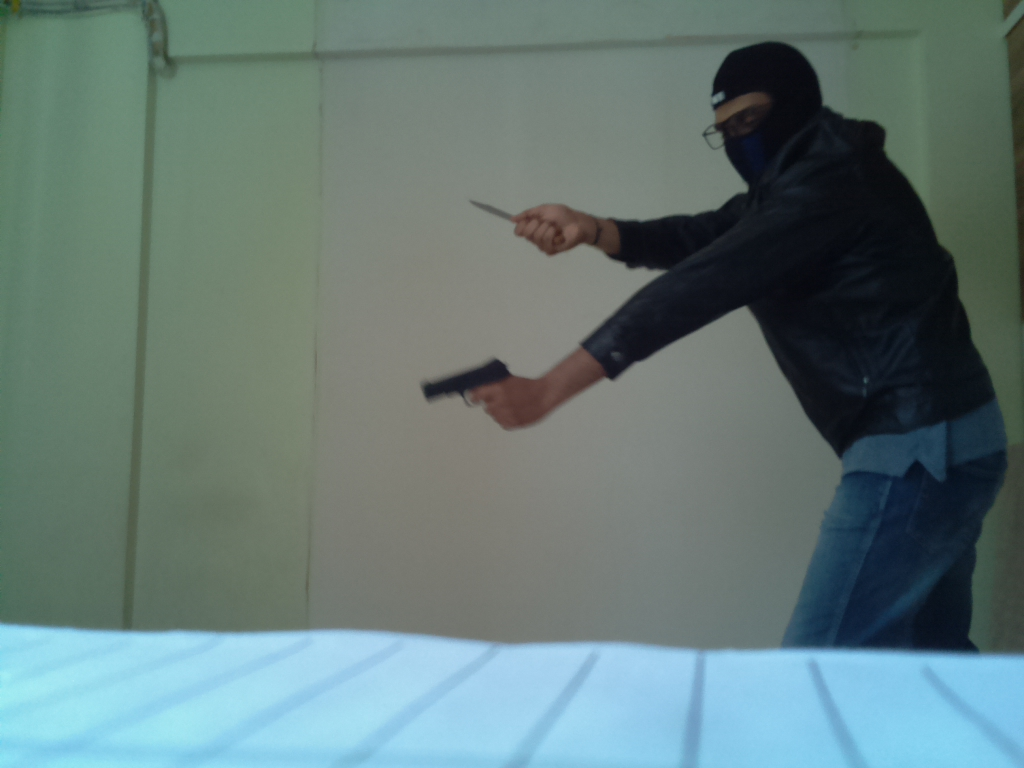gun: (416, 352, 525, 418)
knife: (466, 189, 539, 237)
